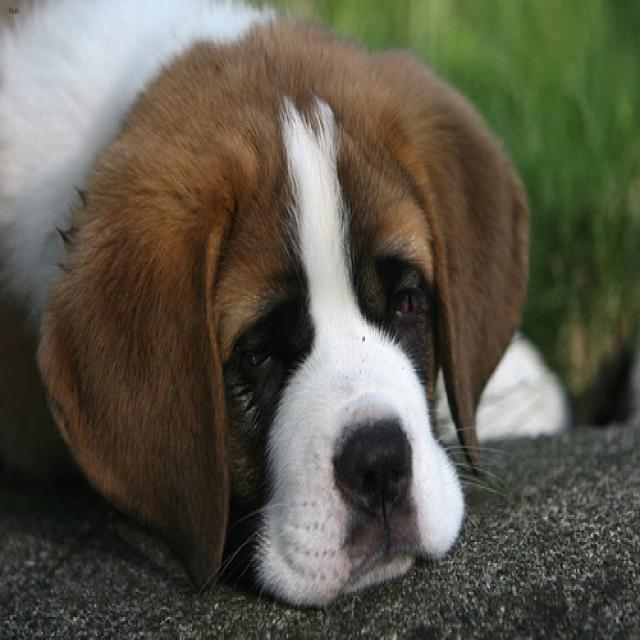dog-saint_bernard: (1, 2, 582, 611)
